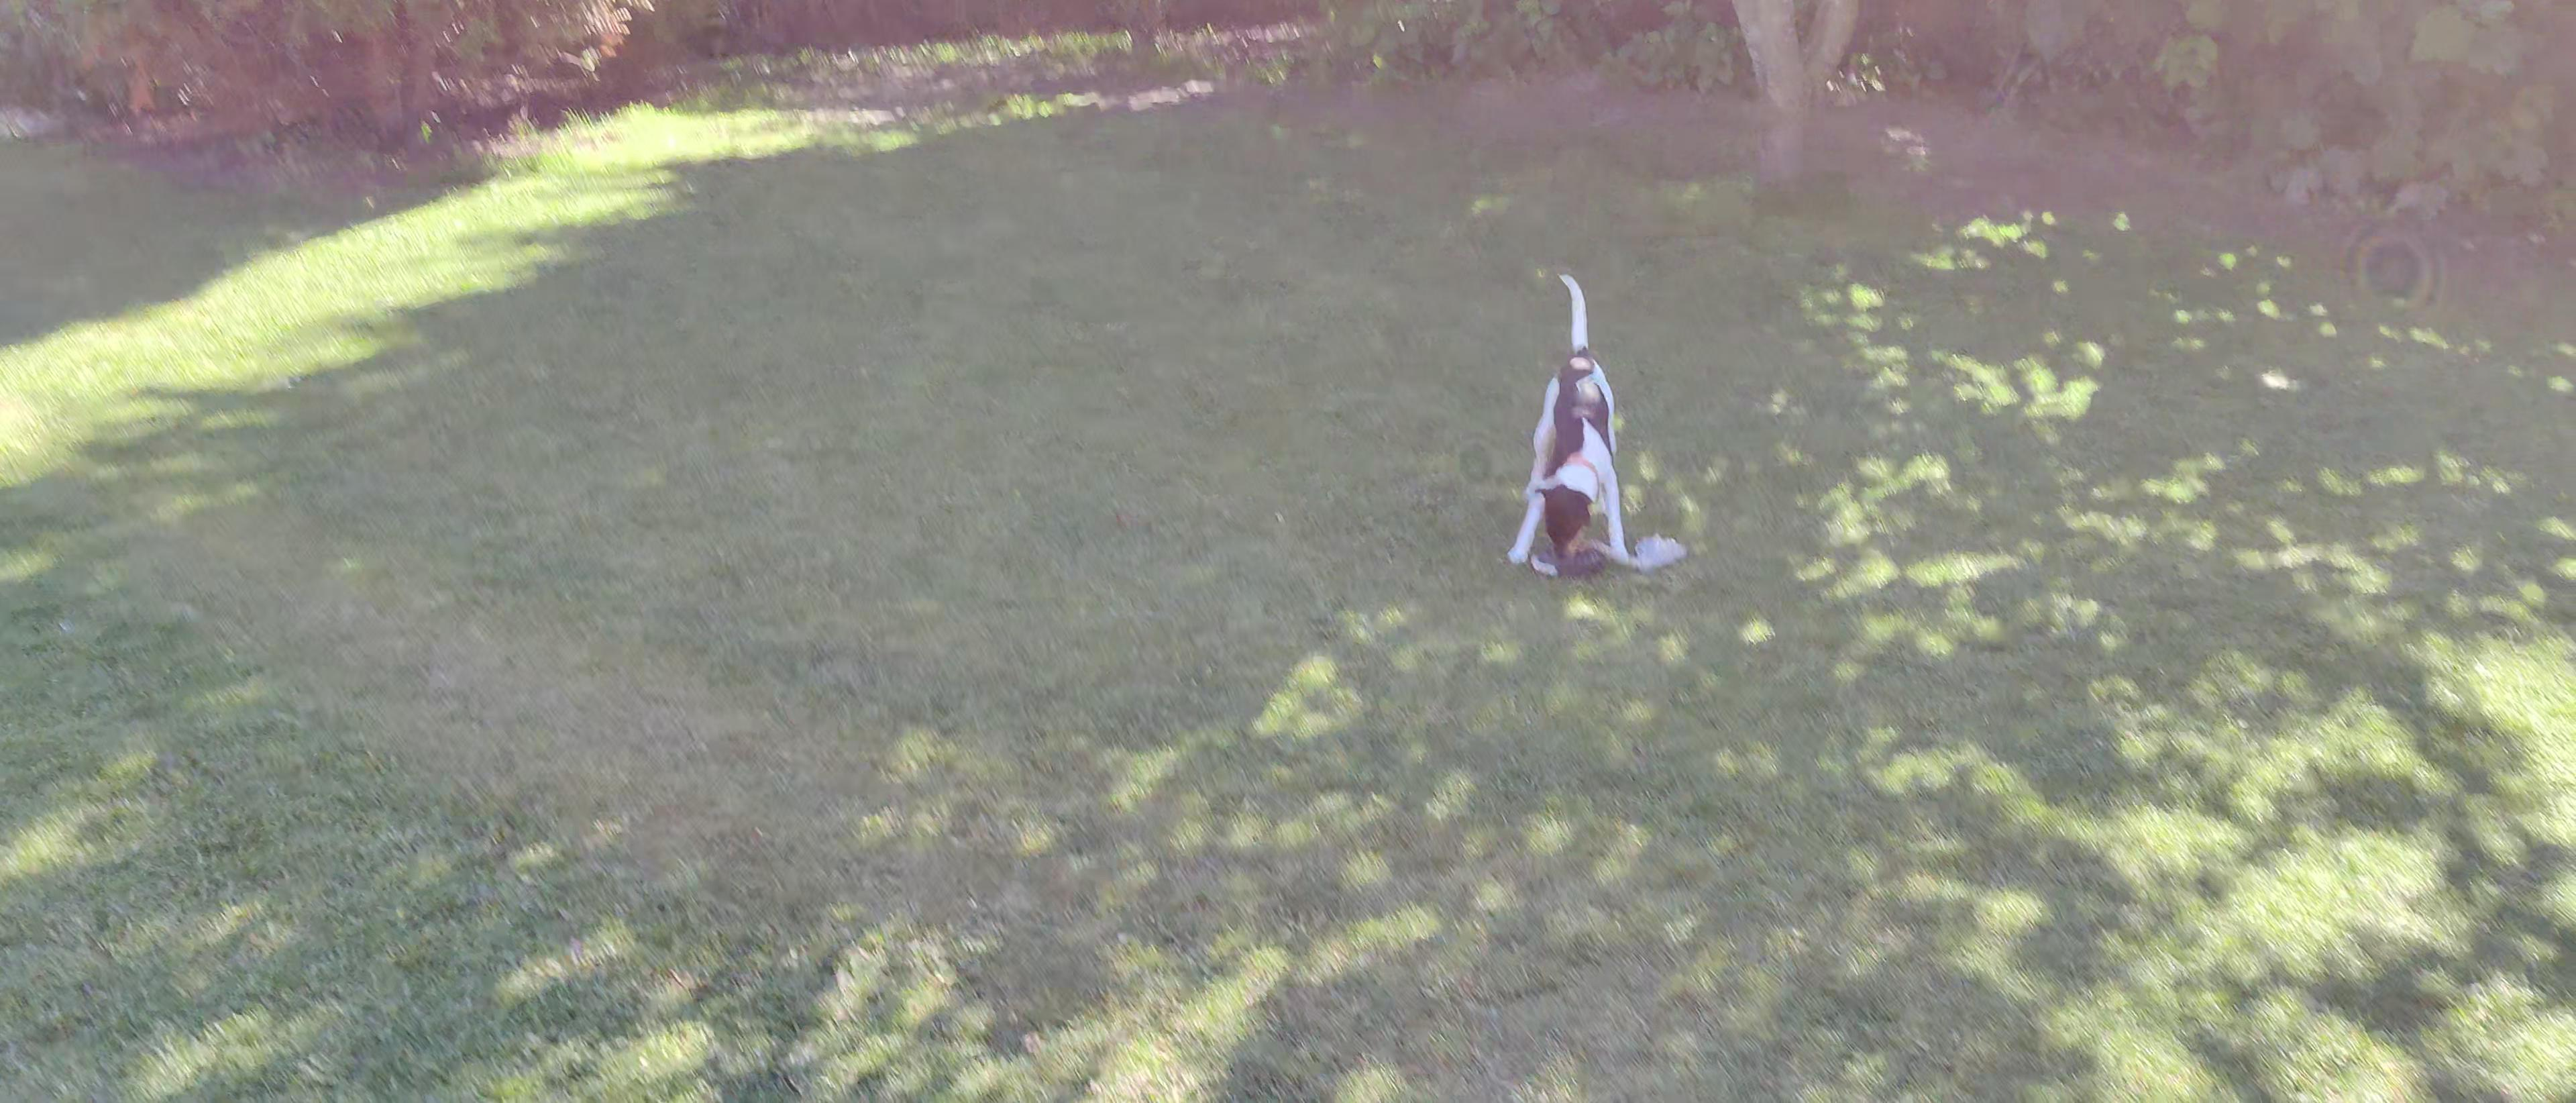Dog: (1498, 270, 1640, 572)
